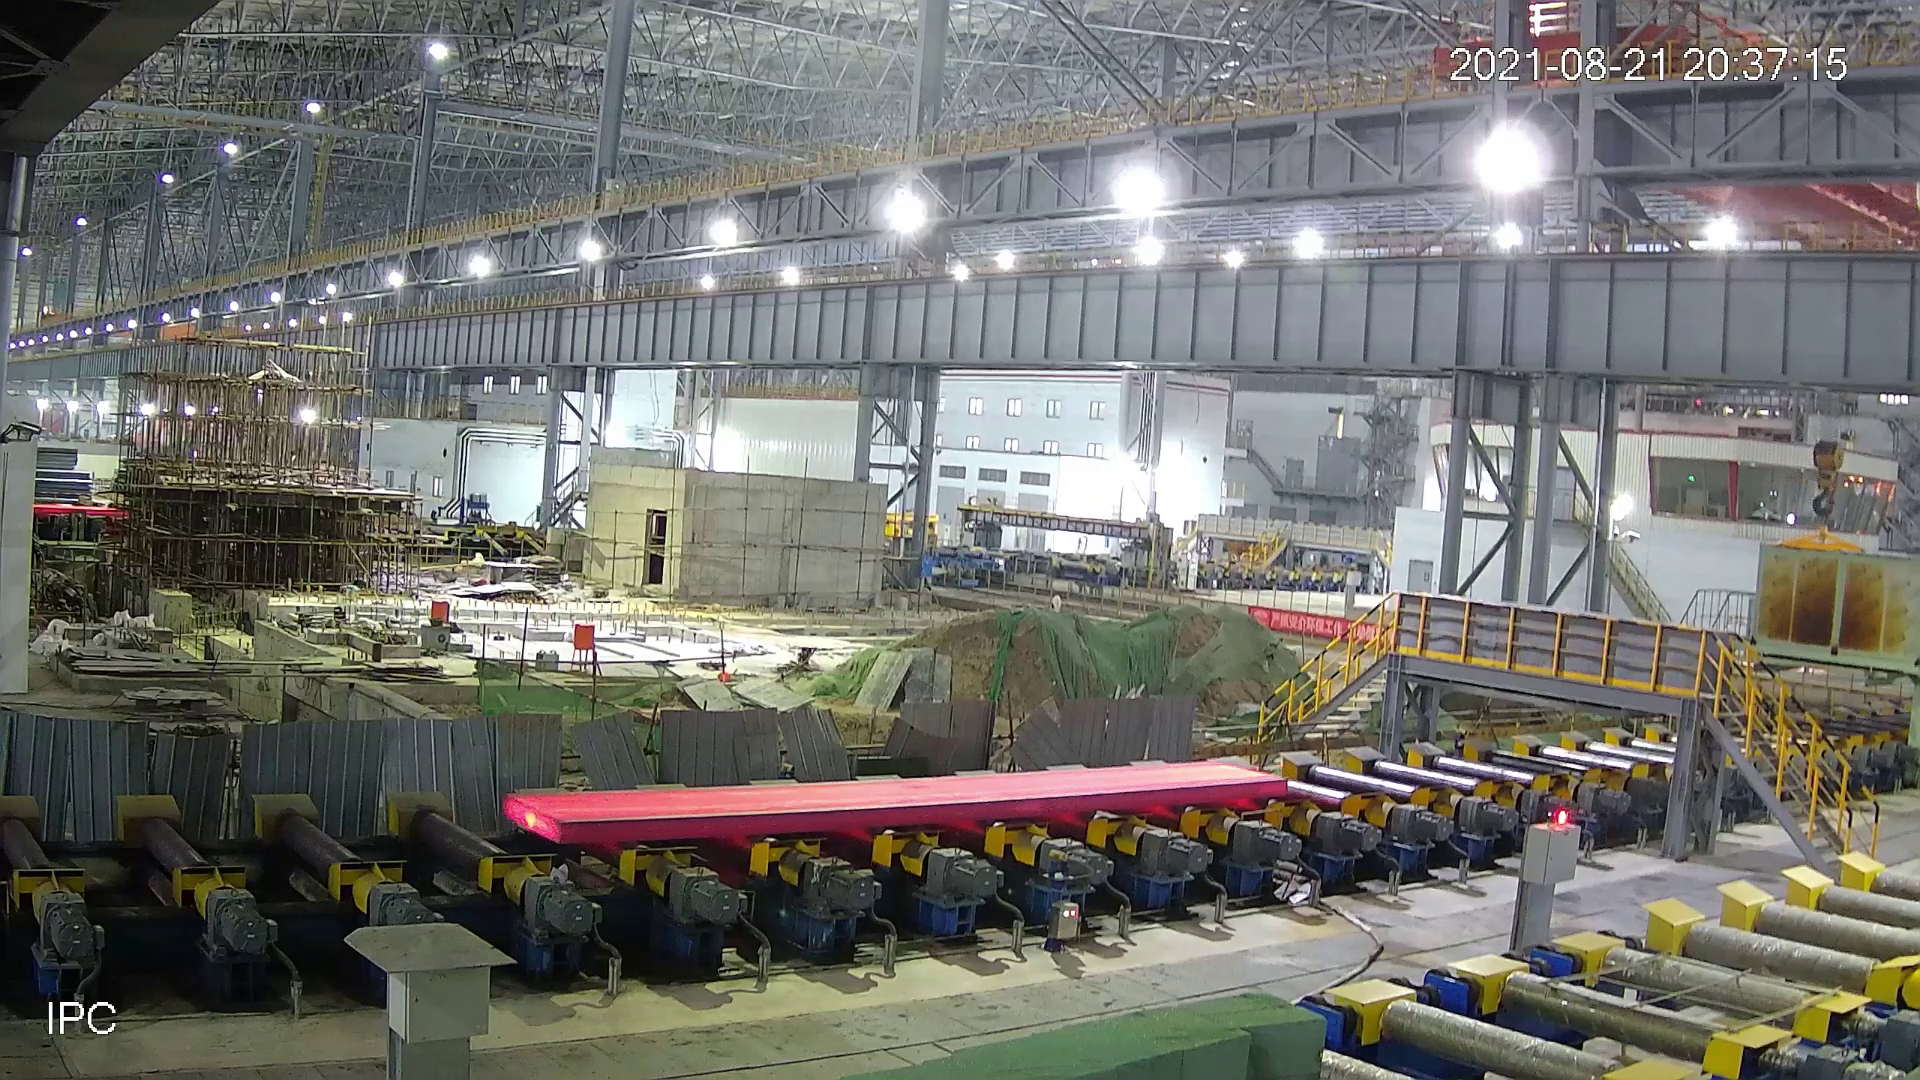slab: (496, 757, 1291, 855)
